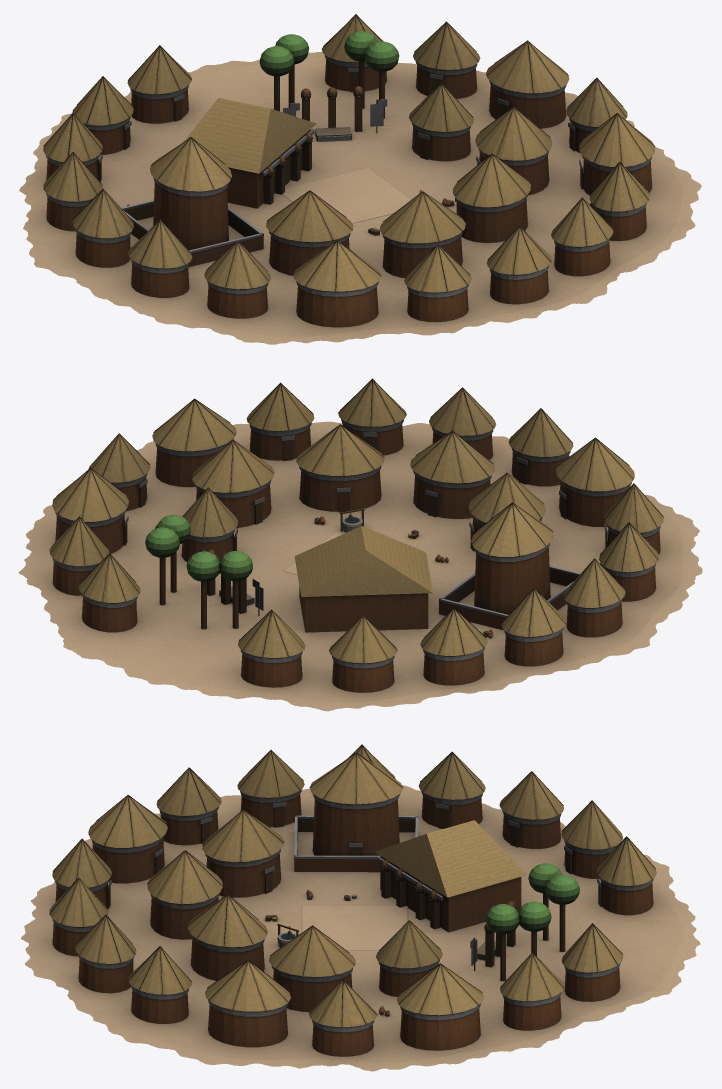
The model's file is bronze-town-big-b-westafrica.glb.
3 views of the same model, one above another, from view 1: azimuth 30°, elevation 25°; view 2: azimuth 150°, elevation 25°; view 3: azimuth 270°, elevation 25° (orthographic).
Parts seen in each view (by area): view 1: LOD0; view 2: LOD0; view 3: LOD0.
Boxes of the visible parts, left/top/right/bottom form: LOD0: left=19, top=14, right=701, bottom=344; LOD0: left=18, top=378, right=702, bottom=711; LOD0: left=21, top=744, right=700, bottom=1071.
Size of what is drawn, in the model's own units: 7.95 by 1.28 by 7.93.
3 materials, 3 textured.
